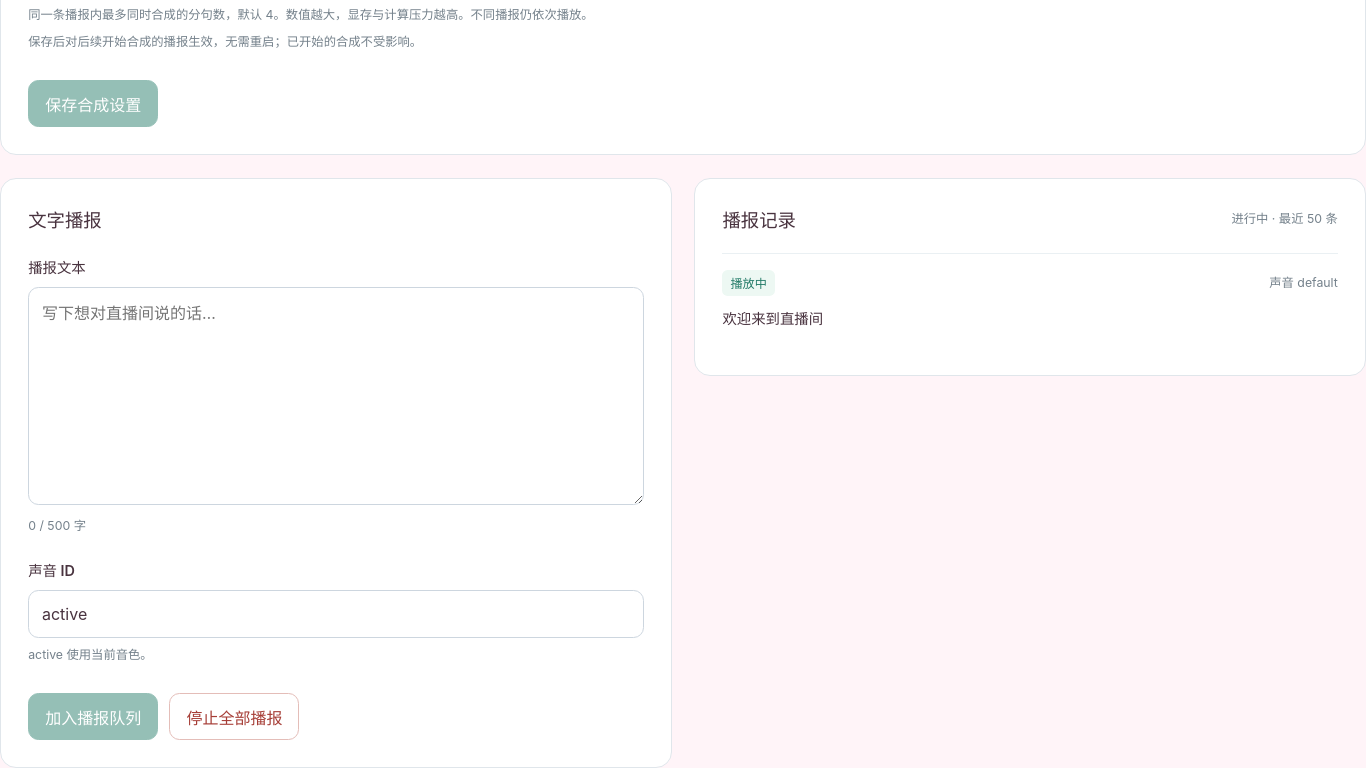
播报操作场景 › 活动任务可以停止，随后使用服务端取消状态
(page scrolled)
Expected: the text "播放中" is shown, [722,270,775,296]
Step 1. Click the button "停止全部播报" → click(234, 717), box [169,693,299,740]
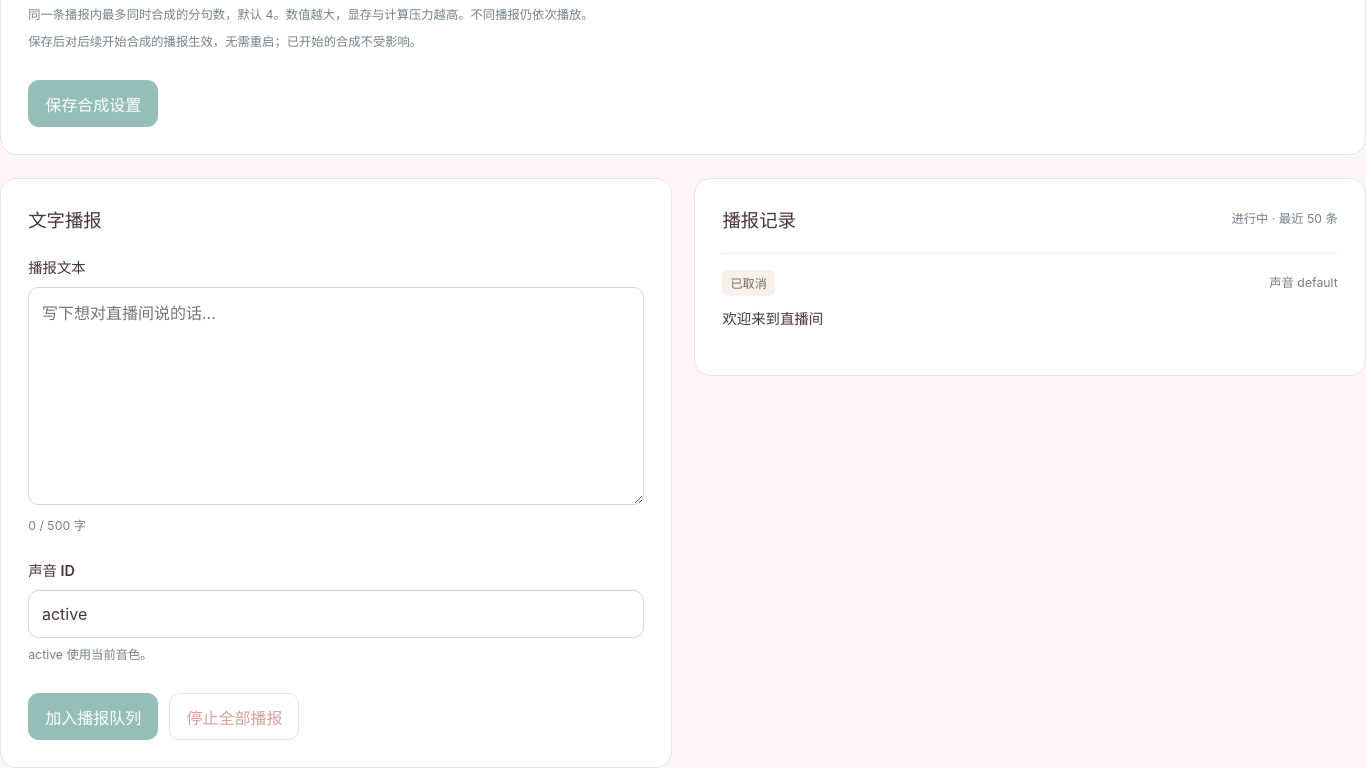
Now the text "已取消" is shown, box [722,270,775,296]
Now the button "停止全部播报" is disabled, box [169,693,299,740]
